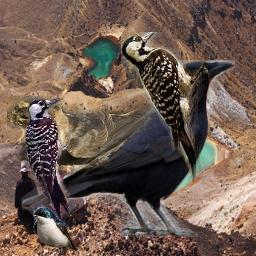Crow: (21, 60, 235, 237)
Swallow: (7, 96, 158, 177), (33, 207, 78, 254)
Woodpecker: (121, 32, 210, 182), (26, 97, 70, 220)
